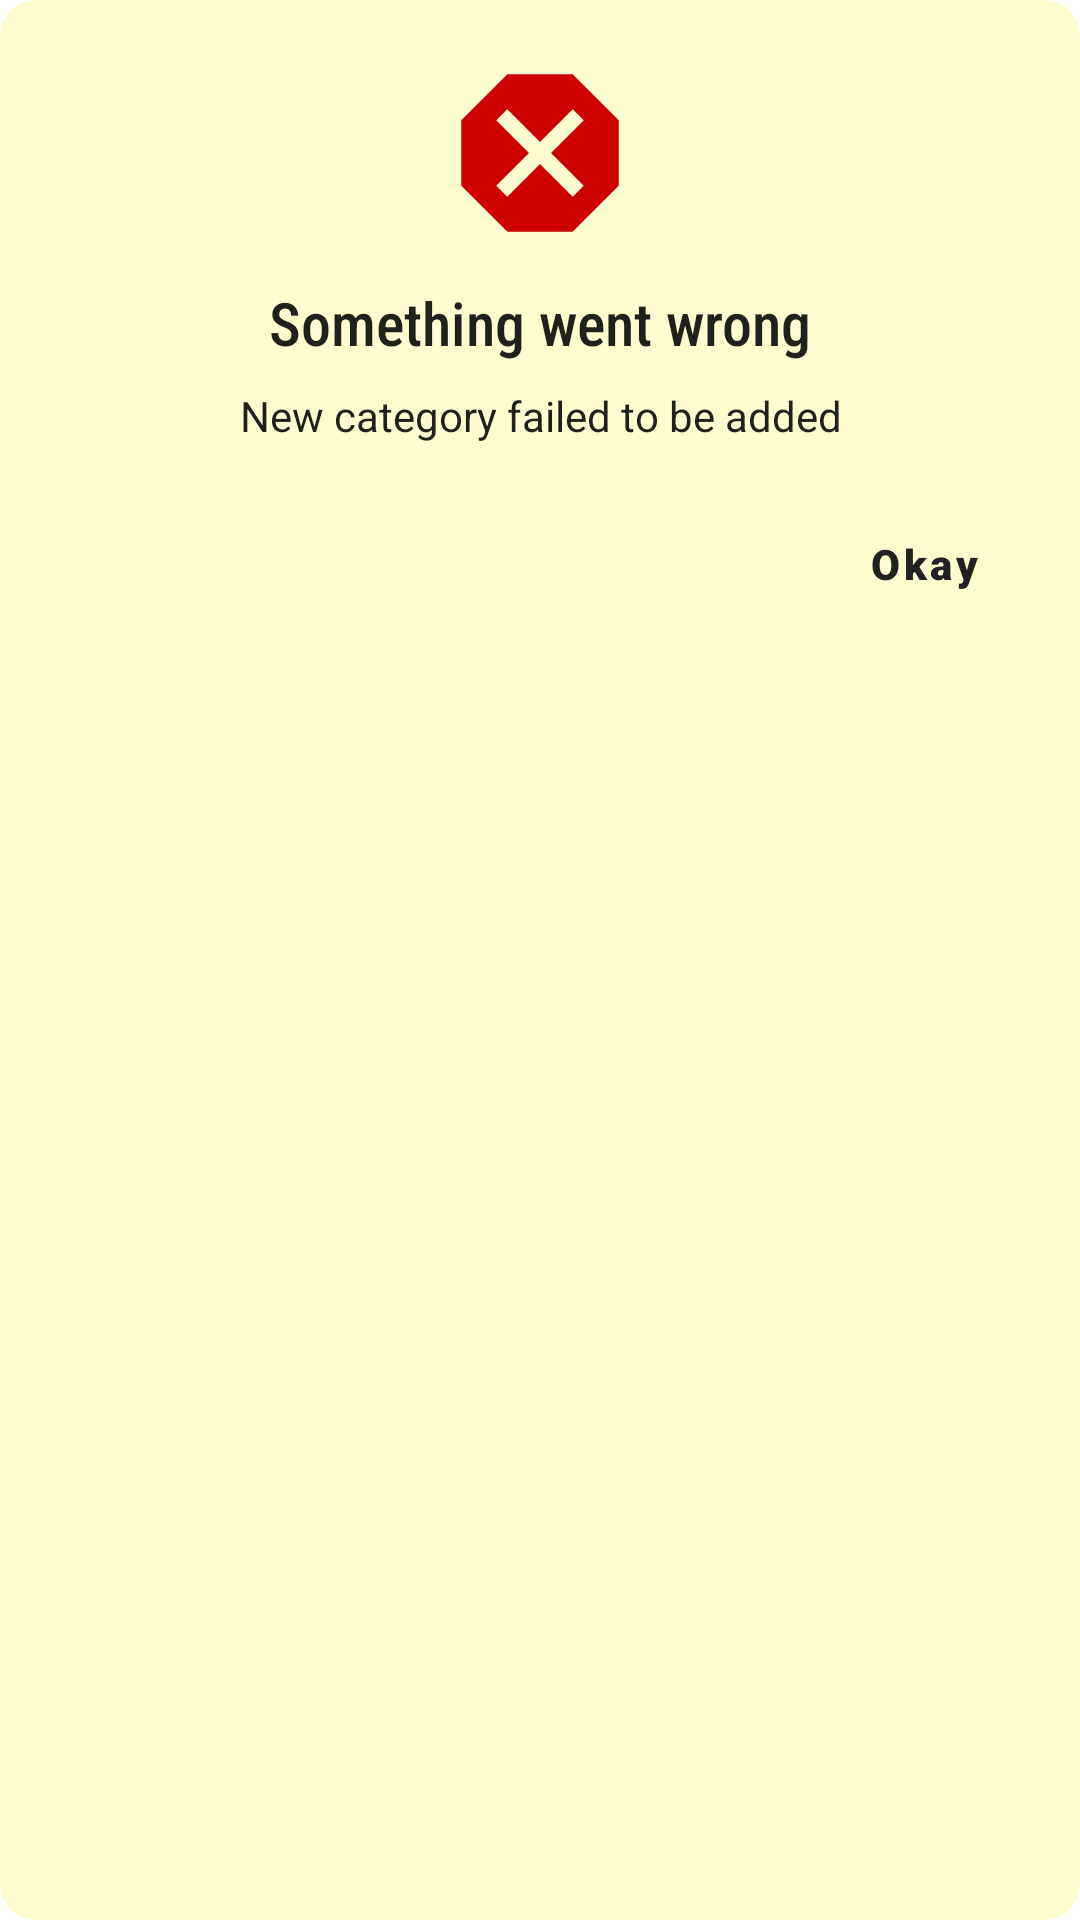

Icons on this 1080w x 1920h Android screen, each with the point to tap as (x,y):
failure: (540,153)
